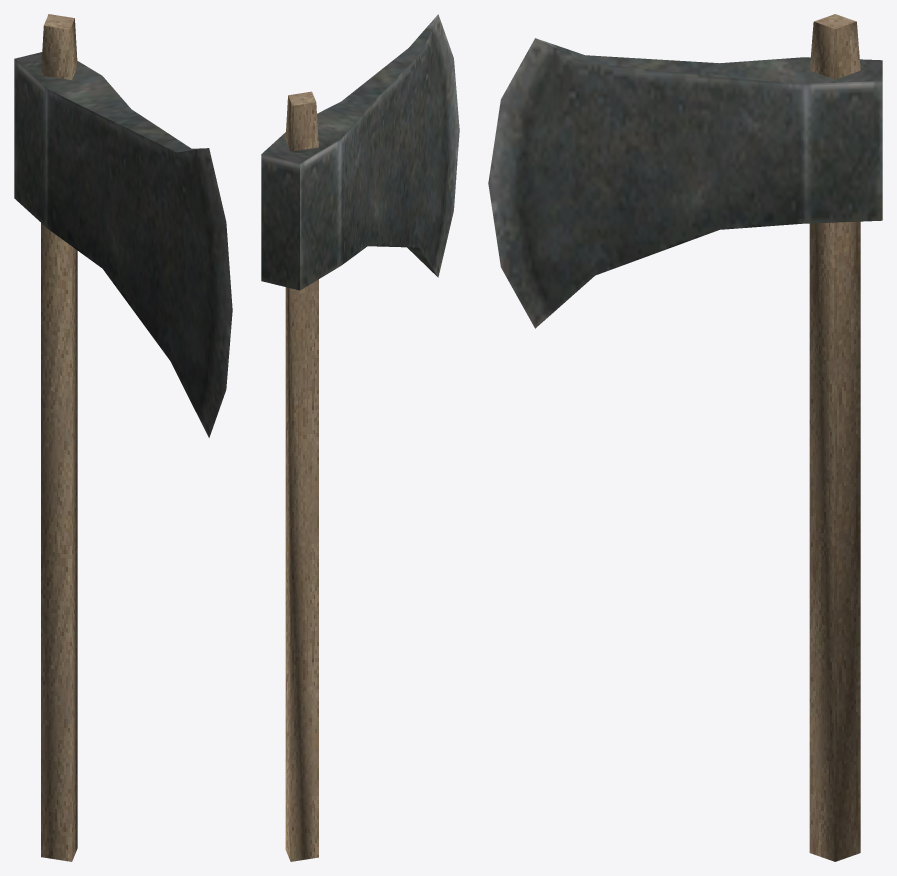
File: wp_mle_axe_heavy_duty_l1.fbx
3 views of the same model, side by side, from view 1: azimuth 30°, elevation 25°; view 2: azimuth 150°, elevation 25°; view 3: azimuth 270°, elevation 25° (orthographic). The views are drawn at different scales.
Parts seen in each view (by area): view 1: mesh_node; view 2: mesh_node; view 3: mesh_node.
Part boxes in pixels (x1,y1,x2,y2): mesh_node: [14, 14, 232, 861]; mesh_node: [261, 14, 459, 861]; mesh_node: [488, 14, 882, 861].
Bounding box in the file's own units: 0.067 × 0.9714 × 0.4176.
